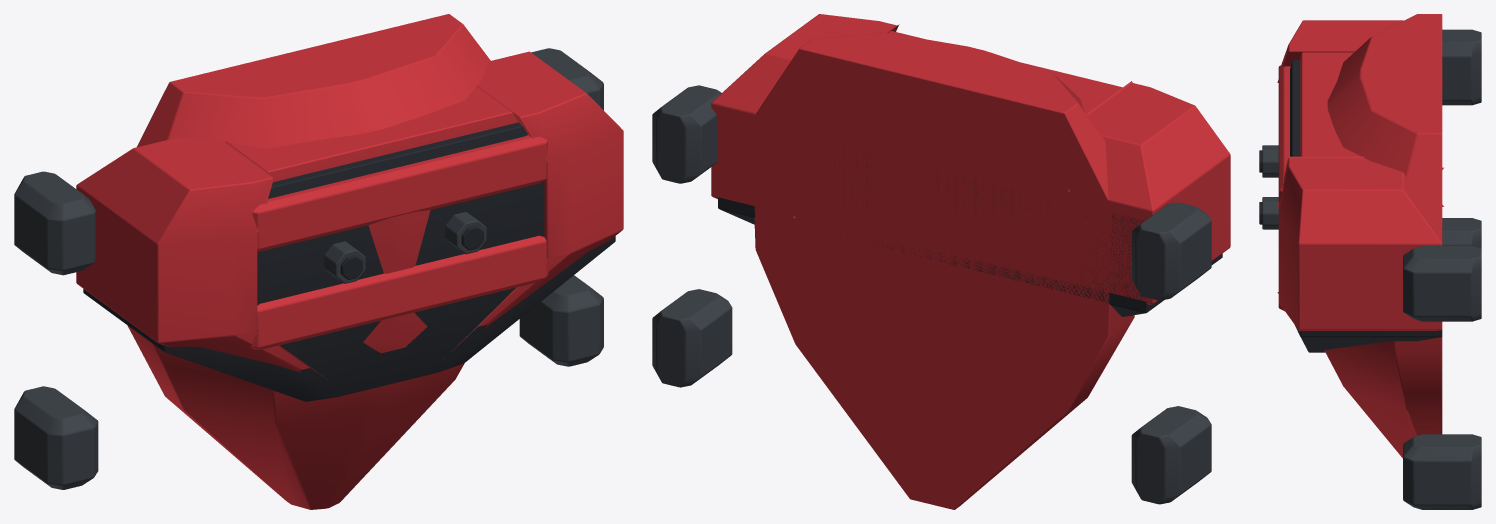
The model's file is LowerArmBack_Set04_Ripjaw.fbx.
3 renders of one model, left to right at view 1: azimuth 30°, elevation 25°; view 2: azimuth 150°, elevation 25°; view 3: azimuth 270°, elevation 25°, orthographic. The views are drawn at different scales.
Visible parts, largest first — view 1: LowerArmBack_Set04_Ripjaw; view 2: LowerArmBack_Set04_Ripjaw; view 3: LowerArmBack_Set04_Ripjaw.
Boxes of the visible parts, left/top/right/bottom form: LowerArmBack_Set04_Ripjaw: left=14, top=14, right=623, bottom=509; LowerArmBack_Set04_Ripjaw: left=652, top=14, right=1230, bottom=509; LowerArmBack_Set04_Ripjaw: left=1259, top=14, right=1481, bottom=509.
Bounding box in the file's own units: 0.43 × 0.33 × 0.1696.
